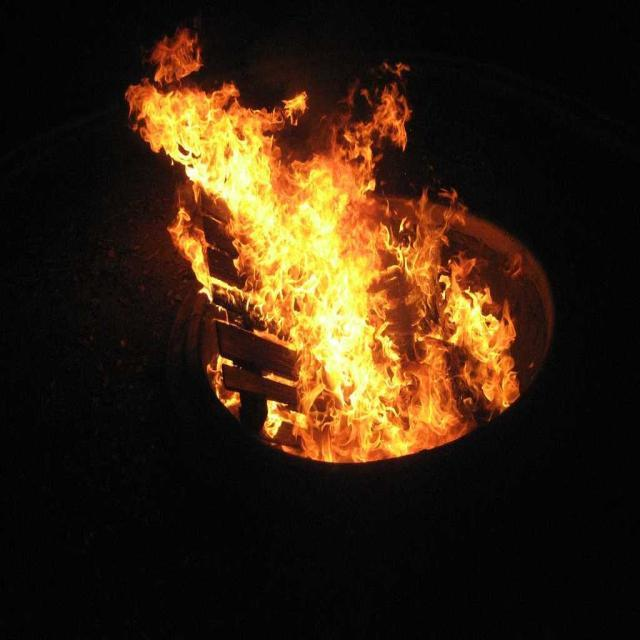Fire: (136, 78, 518, 430)
